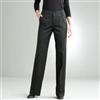pantaloni: (30, 8, 67, 97)
